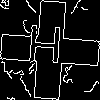H: (25, 25, 64, 73)
